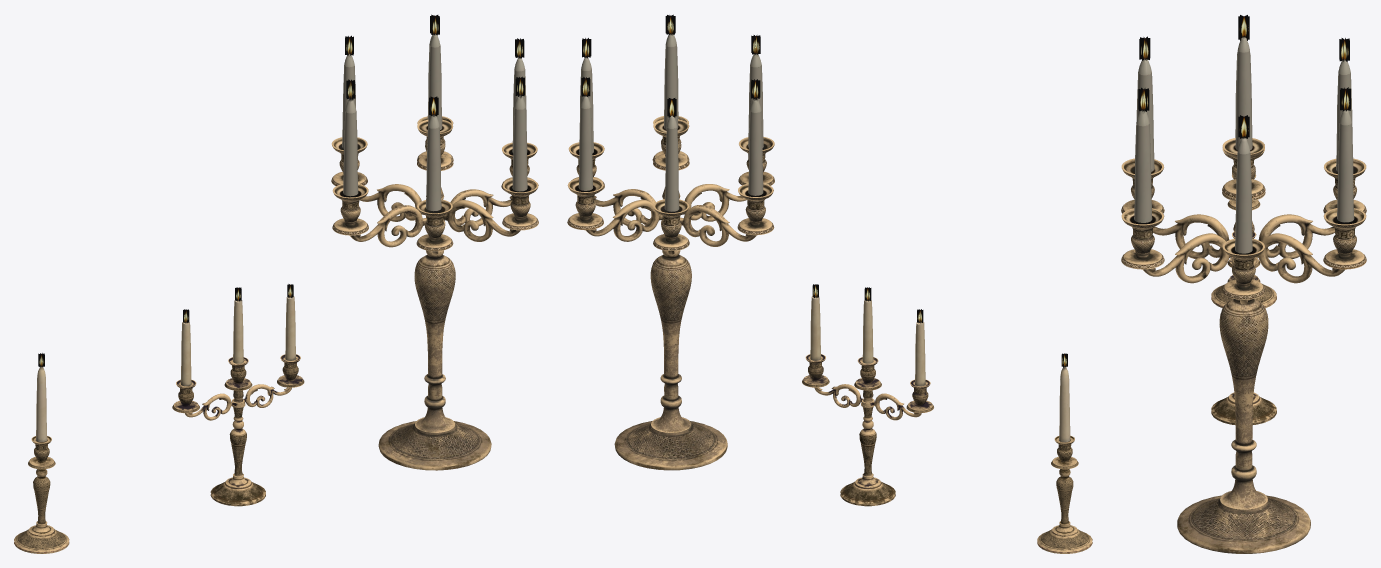
File: brass_candleholders.glb
3 views of the same model, side by side, from view 1: azimuth 30°, elevation 25°; view 2: azimuth 150°, elevation 25°; view 3: azimuth 270°, elevation 25° (orthographic). The views are drawn at different scales.
Visible parts, largest first — view 1: brass_candleholder_03, brass_candleholder_02, brass_candleholder_01; view 2: brass_candleholder_03, brass_candleholder_02, brass_candleholder_01; view 3: brass_candleholder_03, brass_candleholder_02, brass_candleholder_01.
Boxes of the visible parts, x1,y1,x2,y2 form: brass_candleholder_03: [331, 14, 538, 470]; brass_candleholder_02: [172, 284, 304, 506]; brass_candleholder_01: [14, 353, 69, 553]; brass_candleholder_03: [567, 14, 774, 470]; brass_candleholder_02: [802, 284, 933, 506]; brass_candleholder_01: [1037, 353, 1092, 553]; brass_candleholder_03: [1121, 15, 1366, 553]; brass_candleholder_02: [1211, 232, 1276, 425]; brass_candleholder_01: [1211, 174, 1276, 307].
Bounding box in the file's own units: 1.05 × 0.8353 × 0.365.
5 materials, 5 textured.
